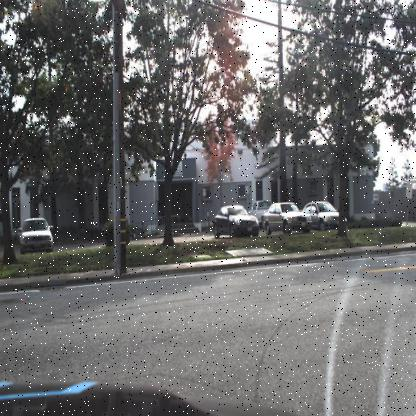car: (260, 197, 312, 234), (19, 215, 58, 256), (212, 204, 258, 238), (303, 199, 348, 228), (250, 195, 268, 219)
